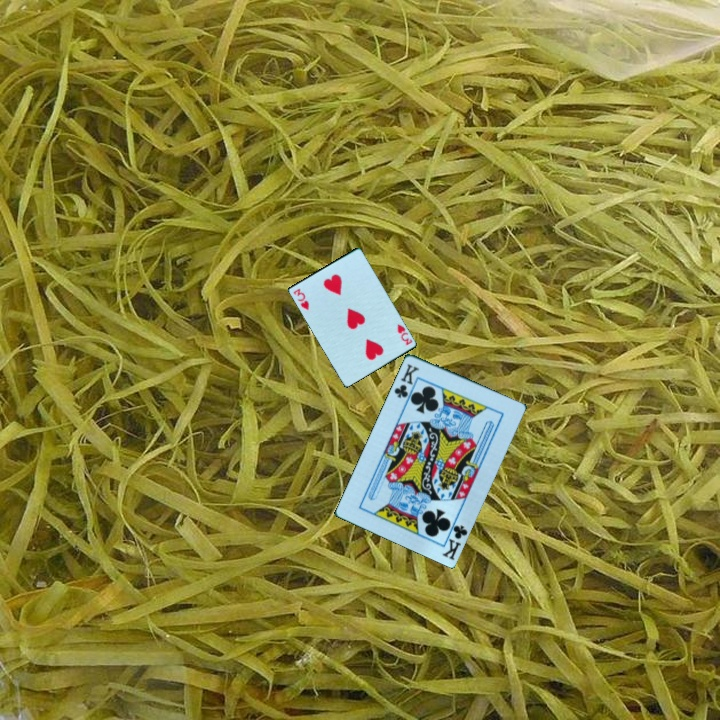3h: (290, 285, 312, 313), (394, 321, 415, 348)
Kc: (438, 514, 470, 563), (390, 360, 422, 401)
